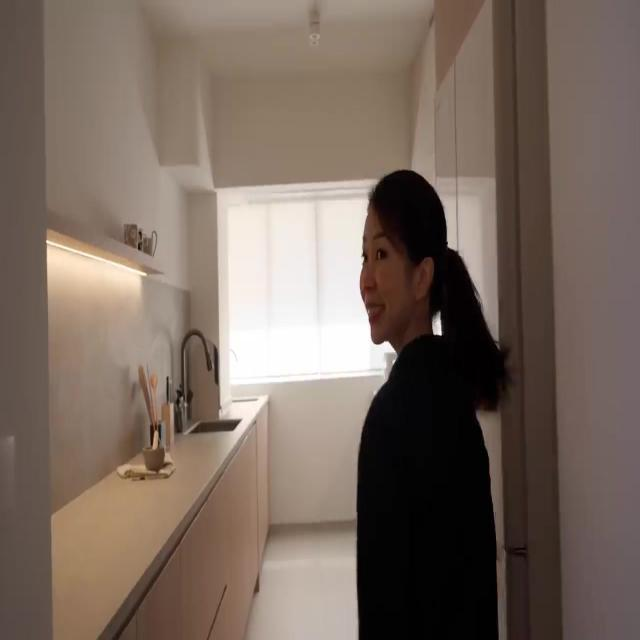obstacle: (50, 394, 268, 638)
person: (356, 168, 510, 638)
